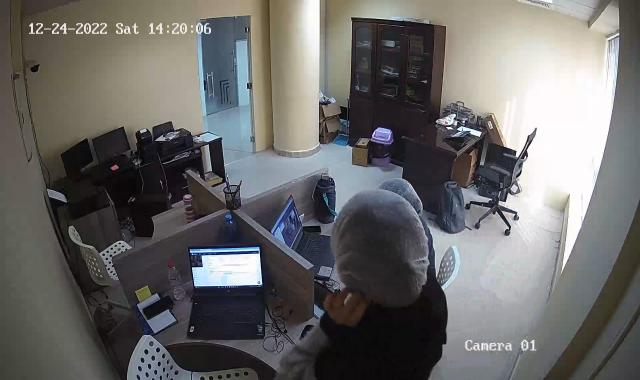hairnet: (332, 190, 423, 310), (376, 172, 425, 212)
